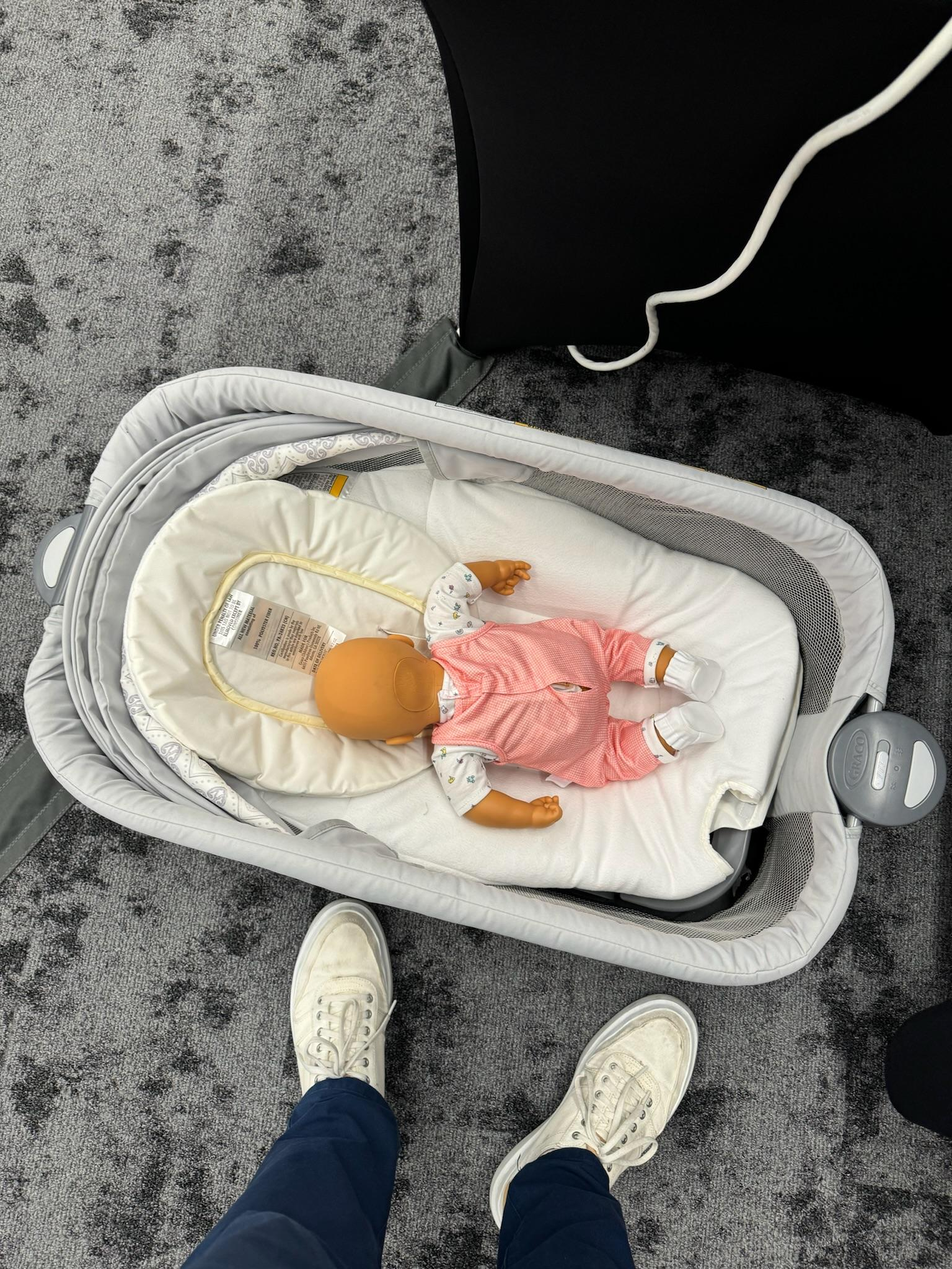baby: (305, 553, 735, 830)
